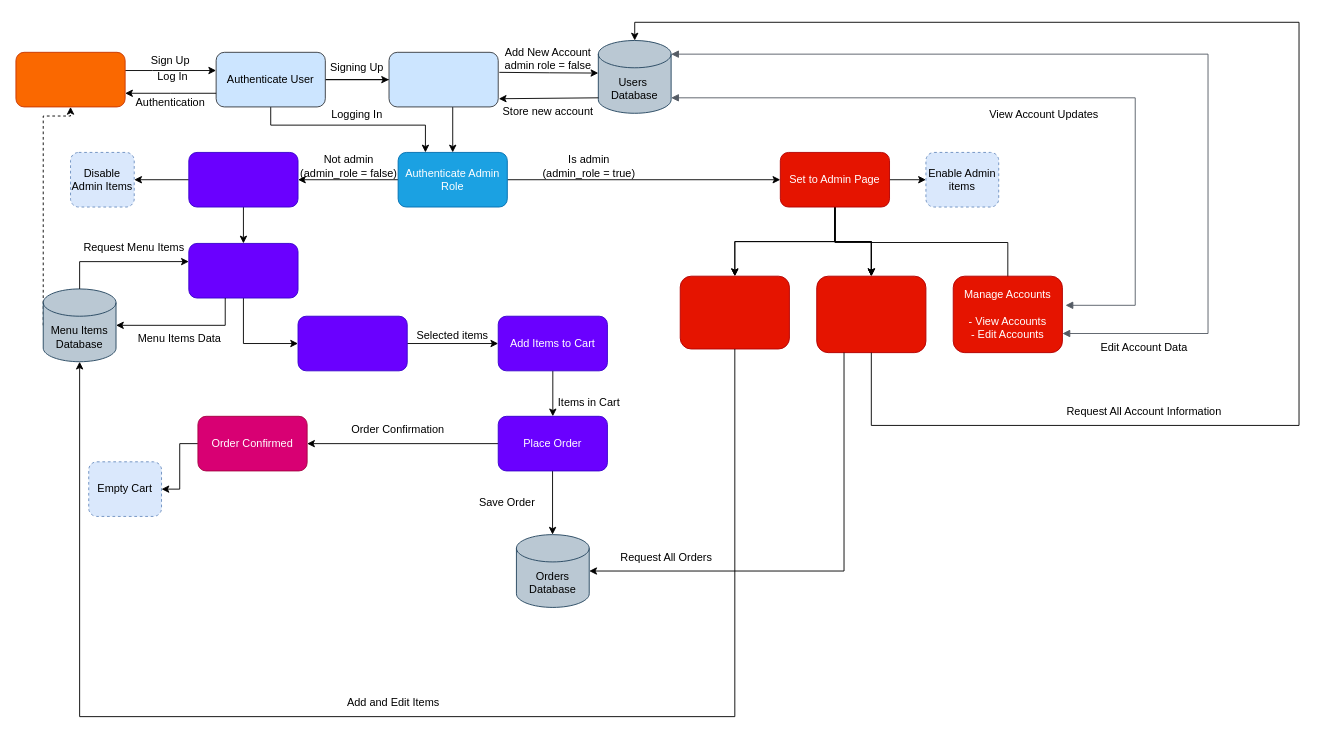
This 1322x740 diagram has some shape labels left out. The centre of each missing label's shape, as x and y in pixels:
"Admin Dashboard - View All Orders - View All Accounts" belongs at (x=871, y=314).
"Browse Menu & Select Items" belongs at (x=352, y=343).
"Create New Account" belongs at (x=443, y=79).
"Load preview of items in User Dashboard" belongs at (x=243, y=270).
"Manage Menu Items - Add Item - Edit Item" belongs at (x=734, y=312).
"Set to User Homepage" belongs at (x=243, y=179).
"USER" belongs at (x=70, y=79).
